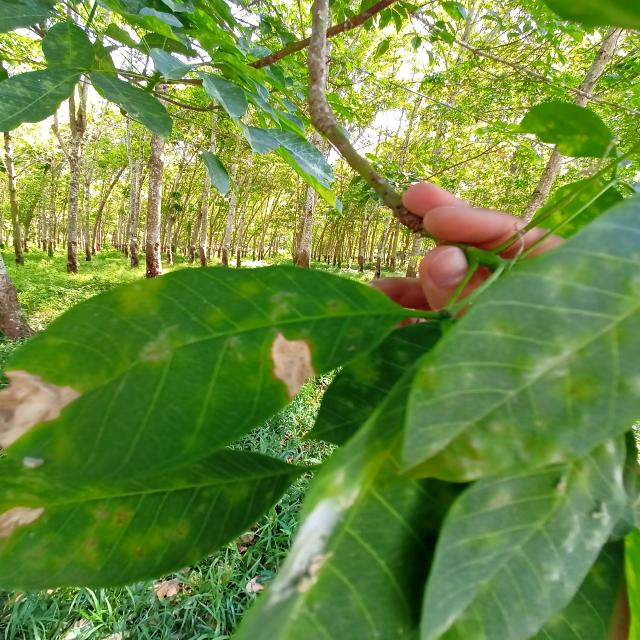Leaf-Blight: (0, 369, 81, 448), (270, 331, 317, 399), (0, 506, 43, 535)
